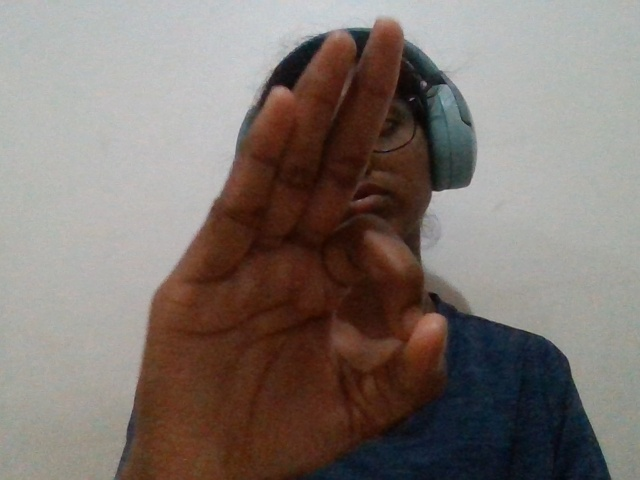F: (115, 10, 475, 480)
